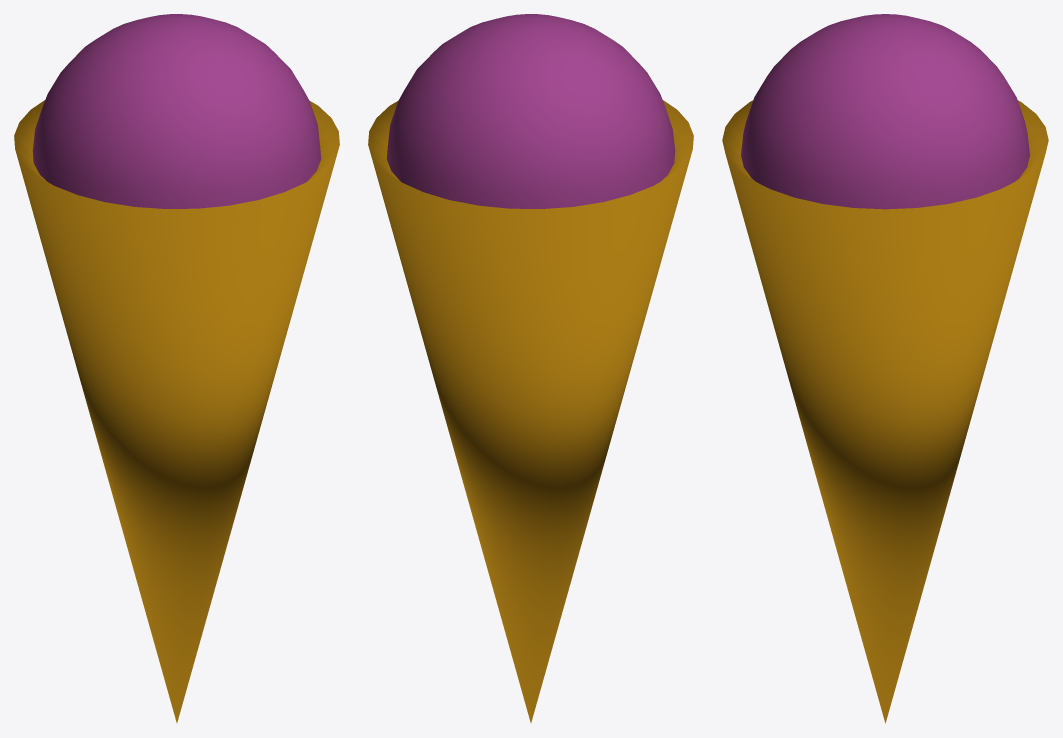
Rendered from Icecream_Mesh.fbx.
3 renders of one model, left to right at view 1: azimuth 30°, elevation 25°; view 2: azimuth 150°, elevation 25°; view 3: azimuth 270°, elevation 25°, orthographic.
Visible parts, largest first — view 1: 锥体; view 2: 锥体; view 3: 锥体.
Boxes of the visible parts, box(x1,y1,x2,y2) form: 锥体: box(14, 14, 339, 722); 锥体: box(368, 14, 693, 722); 锥体: box(722, 14, 1048, 723).
Bounding box in the file's own units: 101 × 239 × 101.
